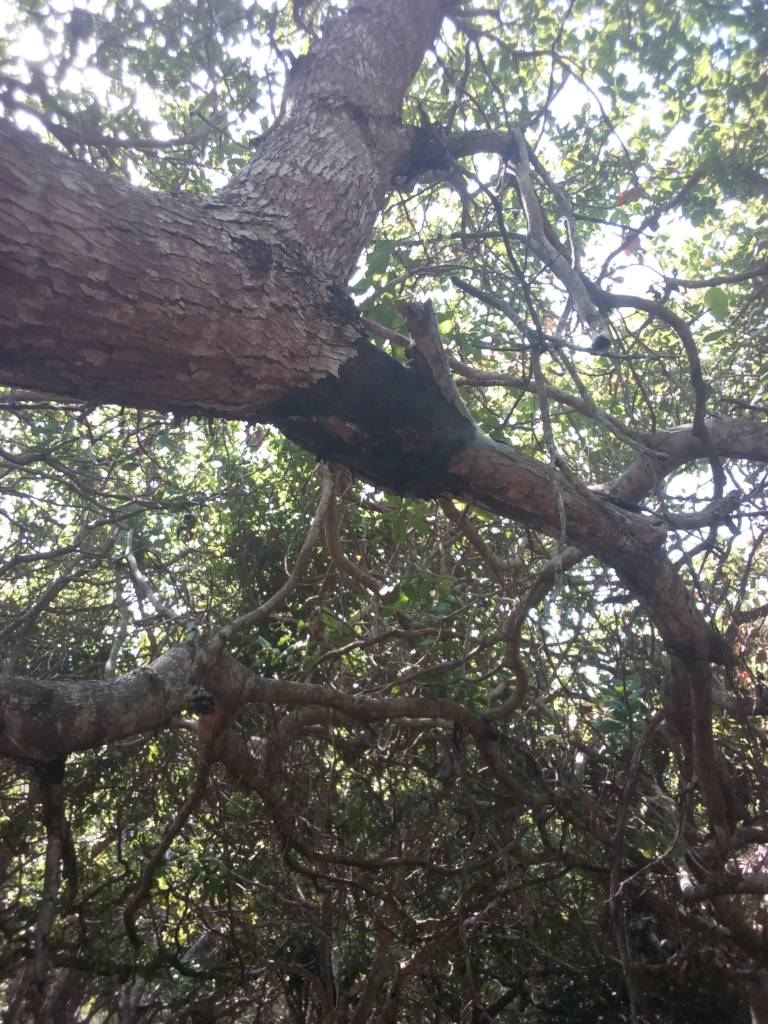Termites: (299, 335, 496, 497)
